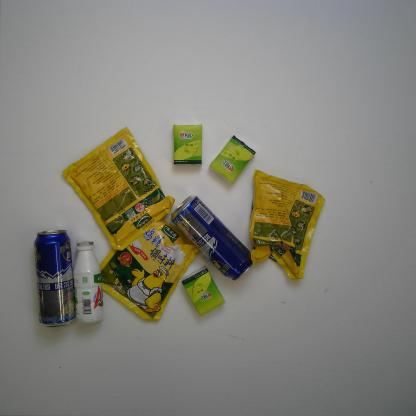Alcohol: (169, 194, 253, 282), (32, 229, 76, 329)
Milk: (72, 240, 104, 324)
Seasoner: (61, 126, 176, 252), (100, 217, 201, 323), (248, 168, 326, 282)
Tissue: (208, 134, 256, 185), (181, 264, 226, 316), (172, 123, 203, 166)
